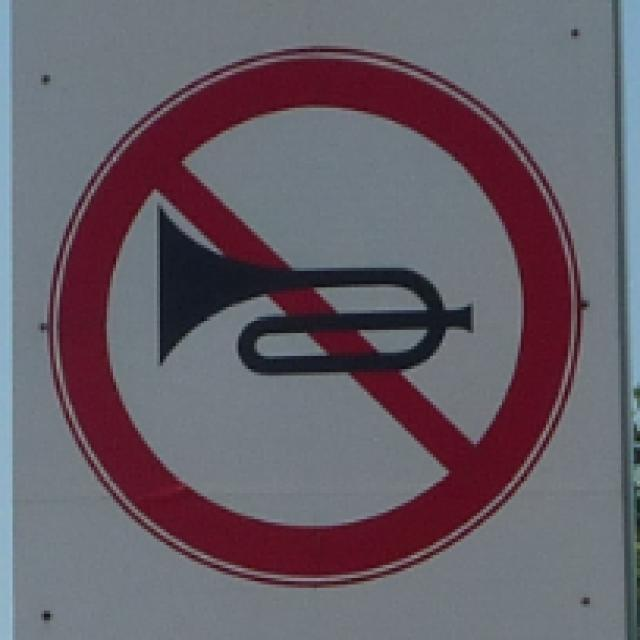No Horn: (52, 41, 583, 587)
